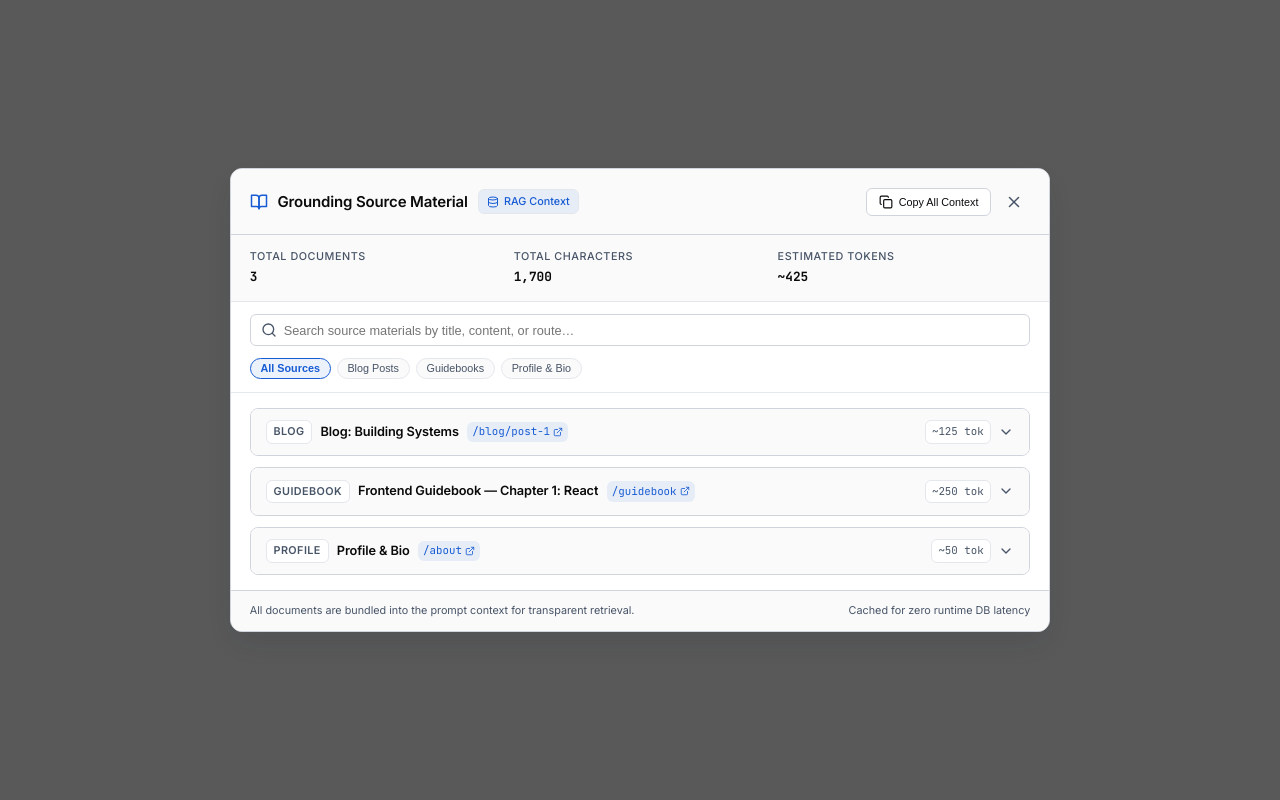
Test: ChatSourcesModal › filters sources by category pill
Click the radio button labelled "Blog Posts": (373, 368) 337,358 -> 410,379
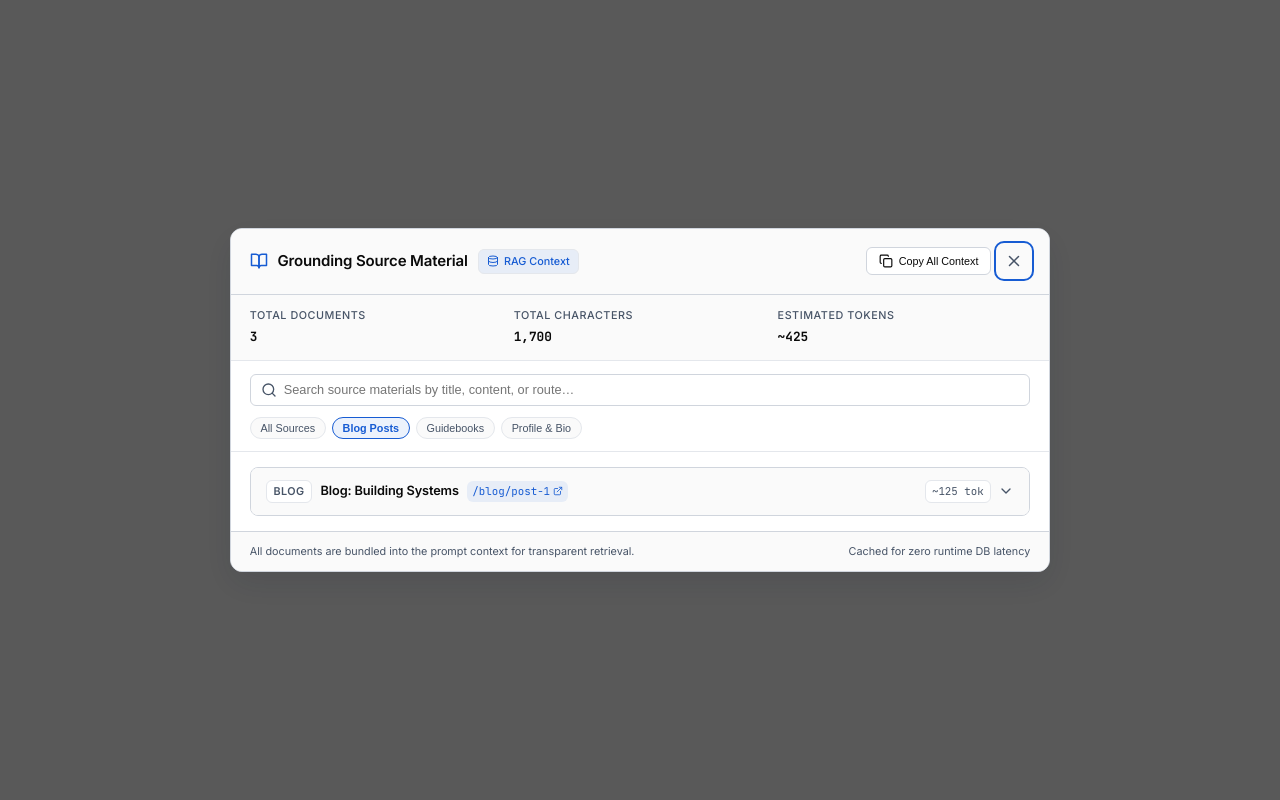
Expected: the heading "Blog: Building Systems" is shown, 320,481 -> 459,502
Now the button "Frontend Guidebook — Chapter 1: React" is gone
